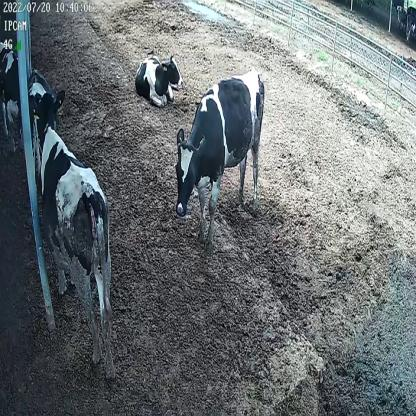cow: (32, 88, 116, 380), (172, 72, 269, 235), (135, 52, 184, 104)
